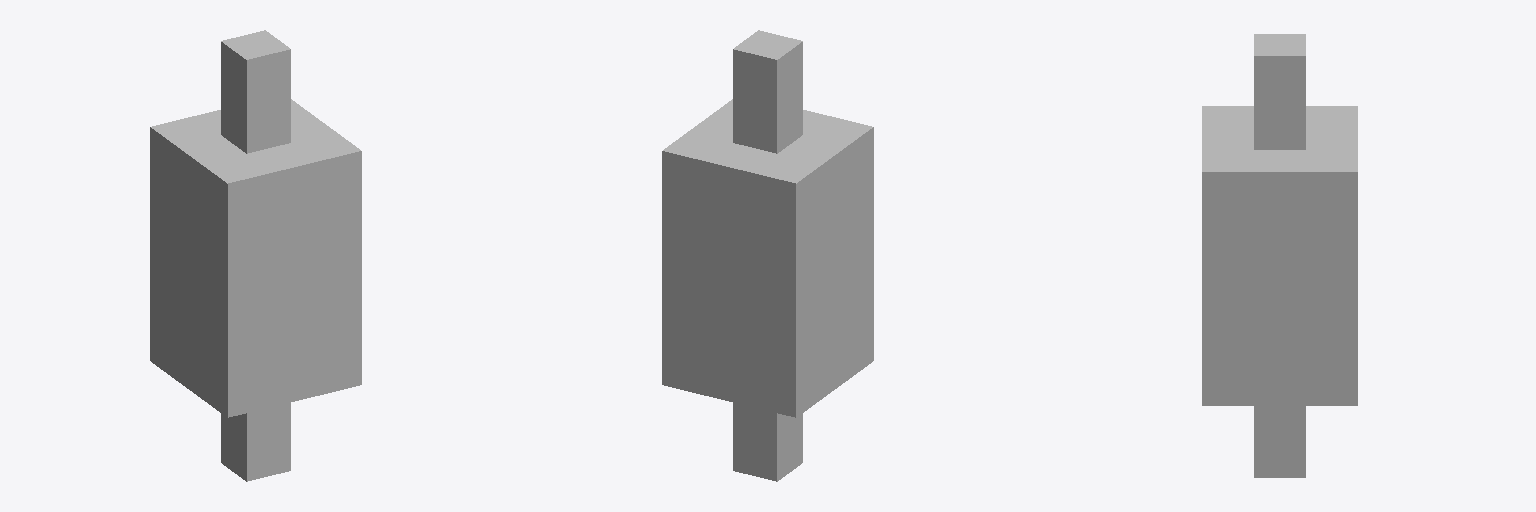
File: shaft_overlay.obj
3 views of the same model, side by side, from view 1: azimuth 30°, elevation 25°; view 2: azimuth 150°, elevation 25°; view 3: azimuth 270°, elevation 25° (orthographic).
Bounding box in the file's own units: 0.375 × 1.12 × 0.375.